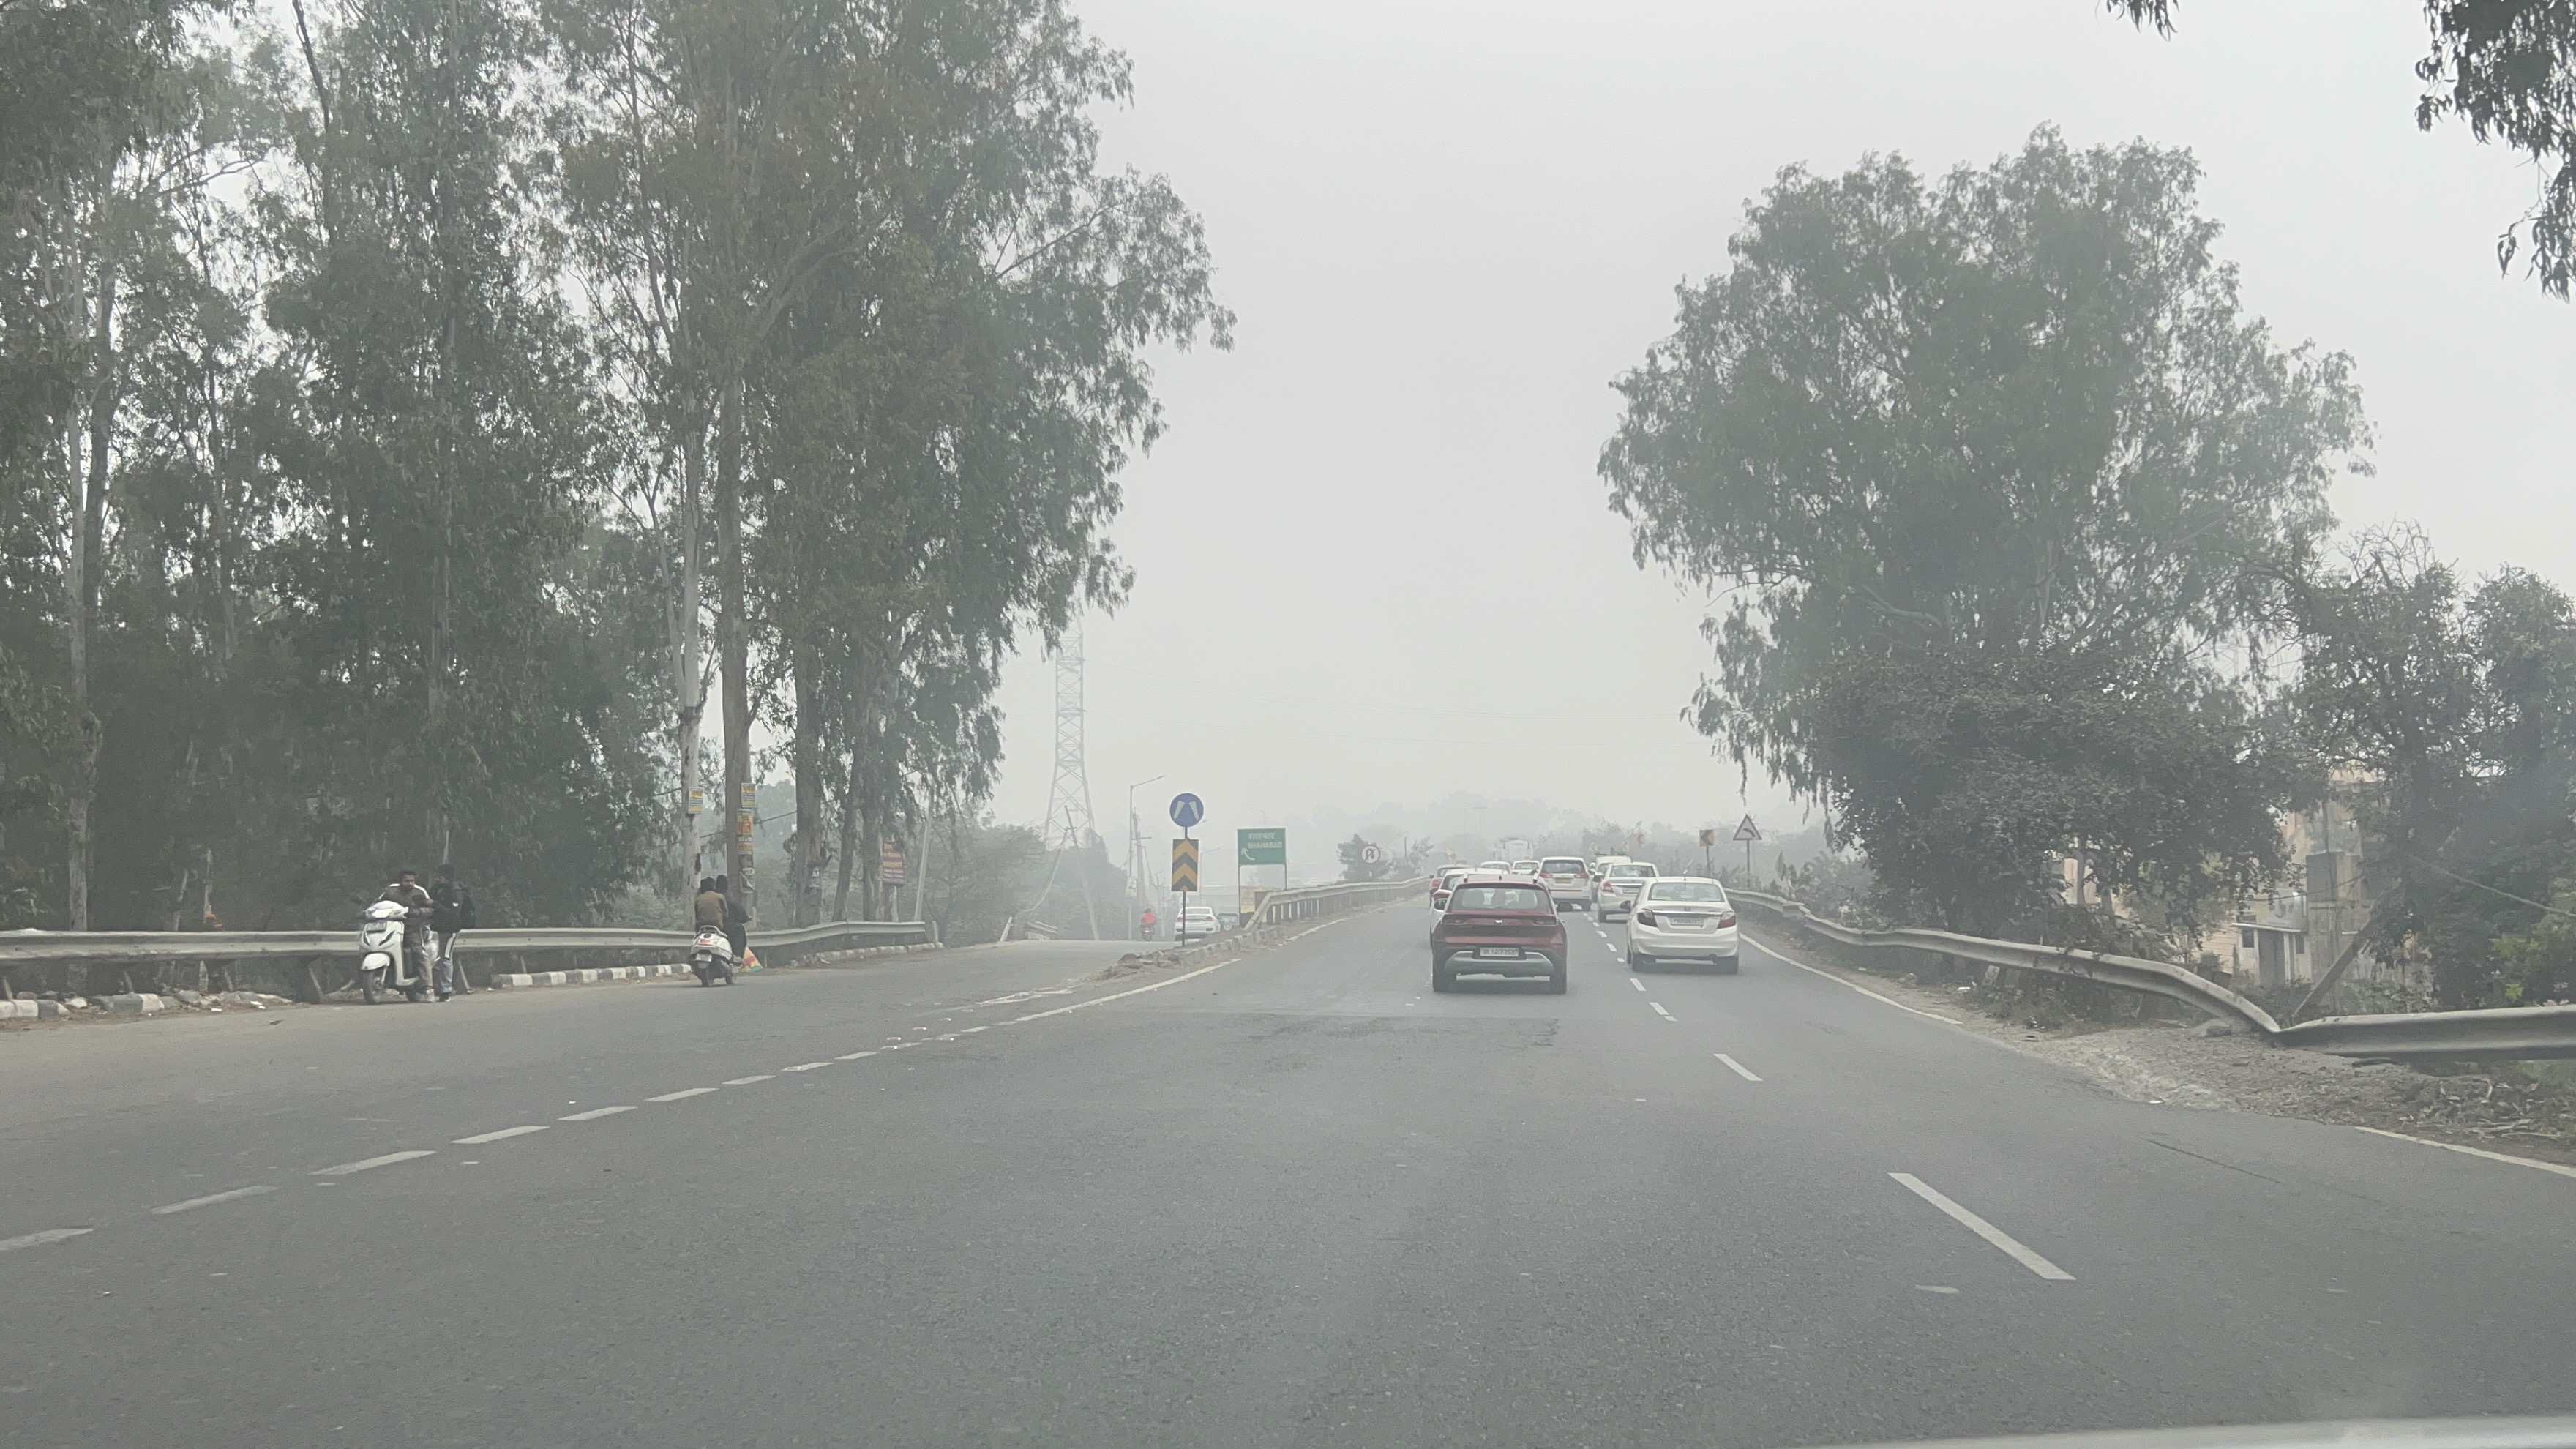General: (1164, 832, 1207, 897)
Informatory: (1228, 816, 1292, 870)
Regulatory: (1161, 778, 1215, 833)
Warning: (1723, 807, 1771, 846)
